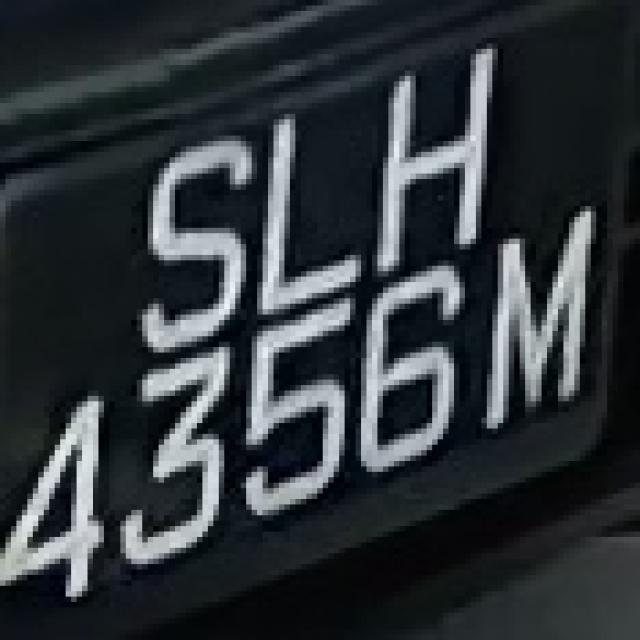3: (104, 342, 235, 570)
4: (11, 374, 115, 613)
5: (257, 304, 367, 532)
6: (339, 271, 465, 467)
H: (383, 38, 514, 277)
L: (252, 92, 372, 315)
M: (481, 217, 591, 428)
S: (126, 130, 257, 347)
